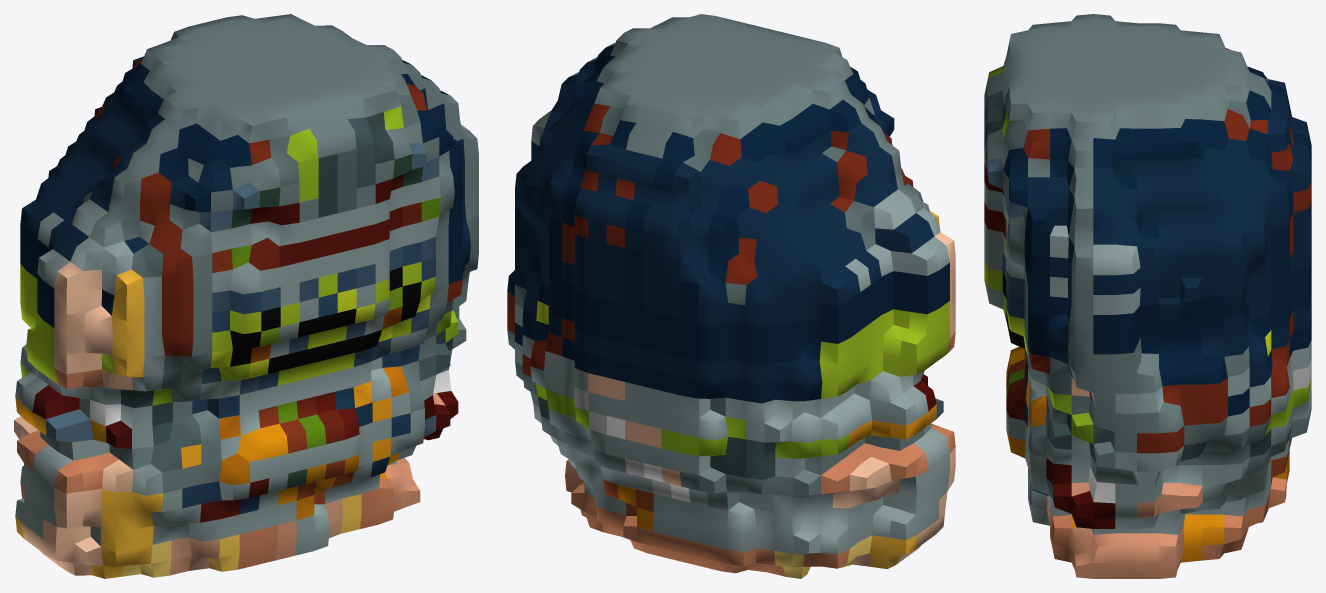
File: Icon_009_02.obj
3 views of the same model, side by side, from view 1: azimuth 30°, elevation 25°; view 2: azimuth 150°, elevation 25°; view 3: azimuth 270°, elevation 25° (orthographic). The views are drawn at different scales.
Size of the model in its own units: 2.2 by 2.3 by 1.5.
